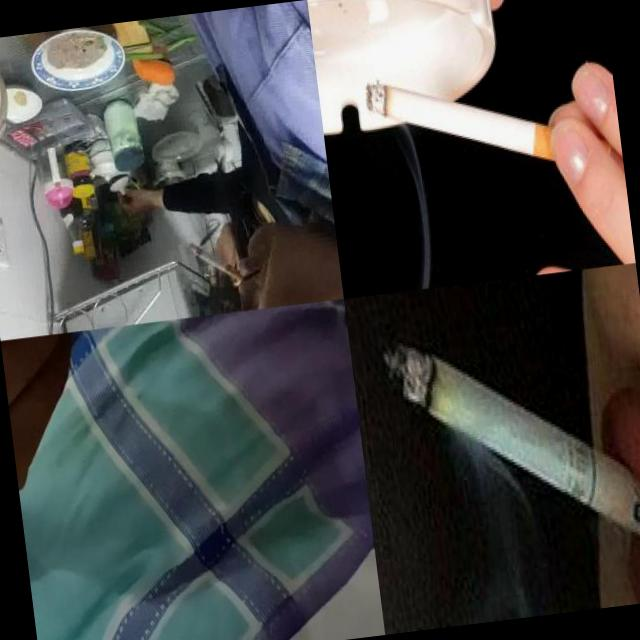smoke: (380, 310, 640, 577), (362, 60, 558, 188), (190, 237, 245, 289)
